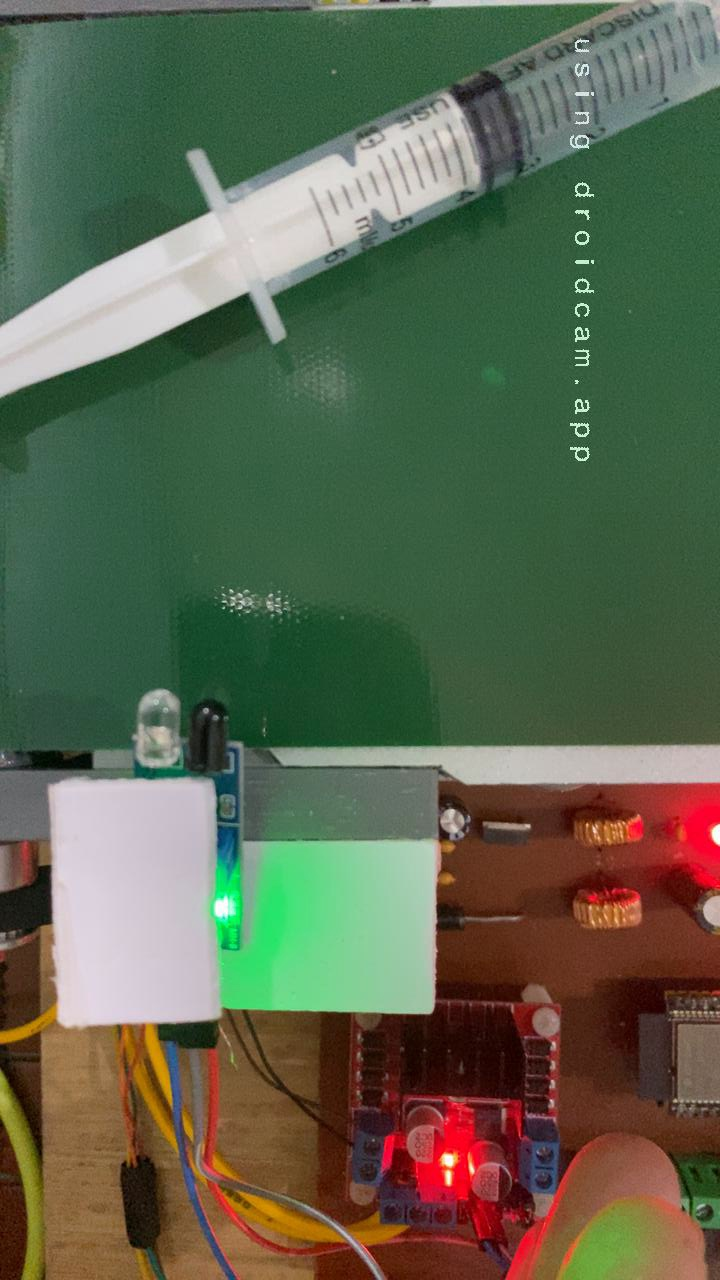syringe: (0, 9, 720, 406)
